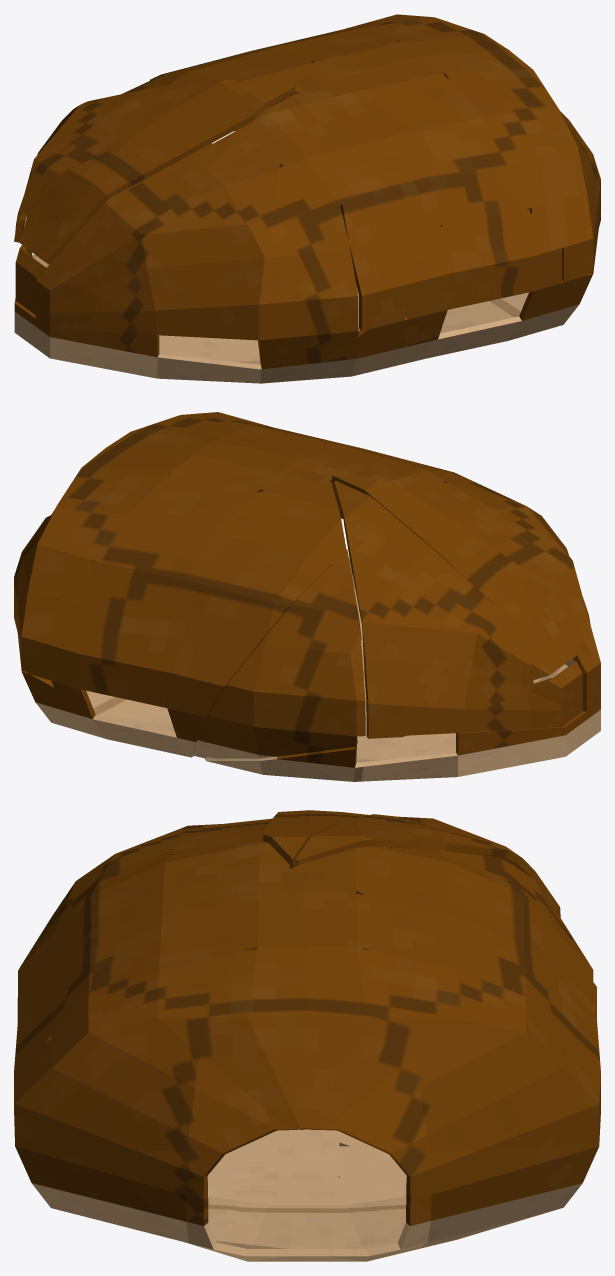
The model's file is T ShellBreak _Final.fbx.
The picture shows the model from 3 angles, top to bottom: view 1: azimuth 30°, elevation 25°; view 2: azimuth 150°, elevation 25°; view 3: azimuth 270°, elevation 25°; orthographic projection. The views are drawn at different scales.
Parts seen in each view (by area): view 1: SB6, SB8, SB9, SB5, SB4, SB2, SB12, SB20, SB10, SB14, SB15, SB18 (+3 smaller); view 2: SB10, SB2, SB13, SB1, SB4, SB12, SB19, SB17, SB5, SB6, SB3, SB9 (+3 smaller); view 3: SB9, SB10, SB12, SB16, SB18, SB11, SB8, SB13, SB6, SB2, SB1, SB4 (+2 smaller).
Part boxes in pixels (x1,y1,x2,y2): SB6: (132,93,358,358); SB8: (299,93,562,343); SB9: (302,70,597,282); SB5: (35,122,251,352); SB4: (20,86,295,264); SB2: (14,79,289,242); SB12: (299,26,532,93); SB20: (322,291,557,362); SB10: (233,14,461,131); SB14: (131,309,321,383); SB15: (14,298,225,373); SB18: (358,155,600,334); SB10: (17,473,329,703); SB2: (333,481,533,738); SB13: (128,481,346,756); SB1: (192,549,365,758); SB4: (332,475,576,680); SB12: (19,431,330,570); SB19: (354,705,534,781); SB17: (22,671,356,781); SB5: (421,500,600,719); SB6: (332,464,590,623); SB3: (407,661,582,735); SB9: (131,412,330,478); SB9: (14,869,300,1154); SB10: (292,868,600,1151); SB12: (247,868,429,1154); SB16: (297,1129,599,1256); SB18: (15,1130,284,1245); SB11: (186,1130,421,1261); SB8: (14,864,288,1125); SB13: (292,846,597,1032); SB6: (19,826,290,968); SB2: (295,814,560,917); SB1: (410,848,593,981); SB4: (263,810,379,865).
Size of the model in its own units: 96.95 by 39.73 by 77.44.
Materials: 1 (1 with a texture image).
